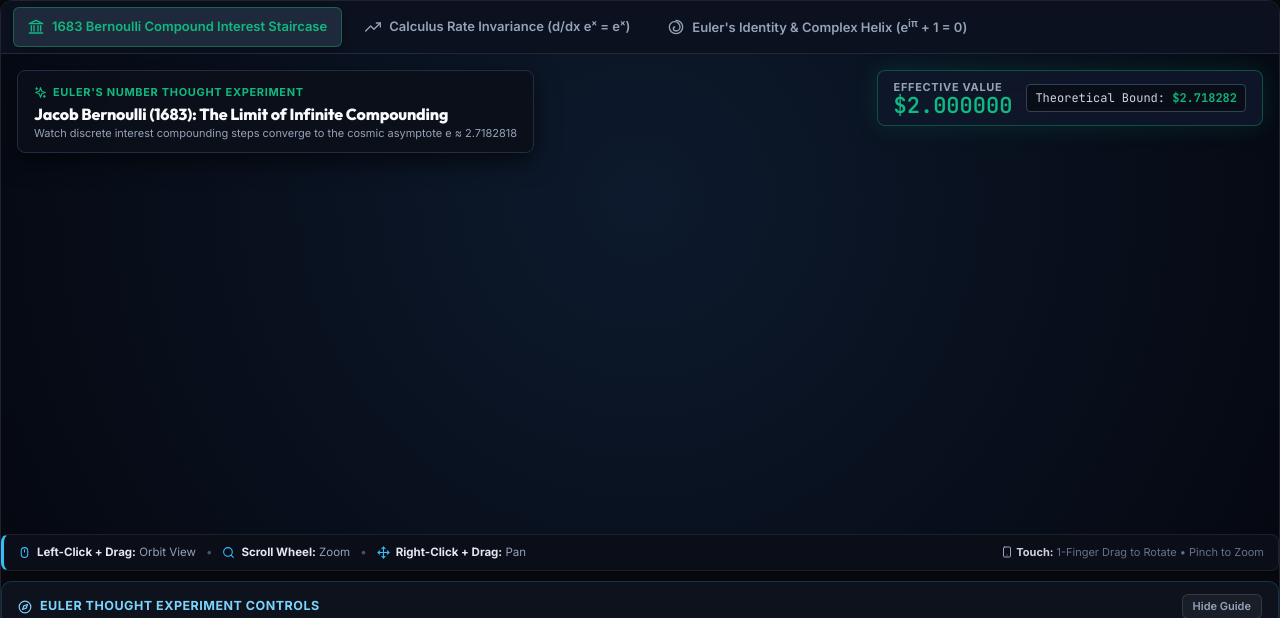
Test: EulersNumber3DLab › switches to Calculus Rate Invariance mode (d/dx e^x = e^x)
Click the tab with test id "tab-calculus" at (498, 27), box [350,7,645,47]
(page scrolled)
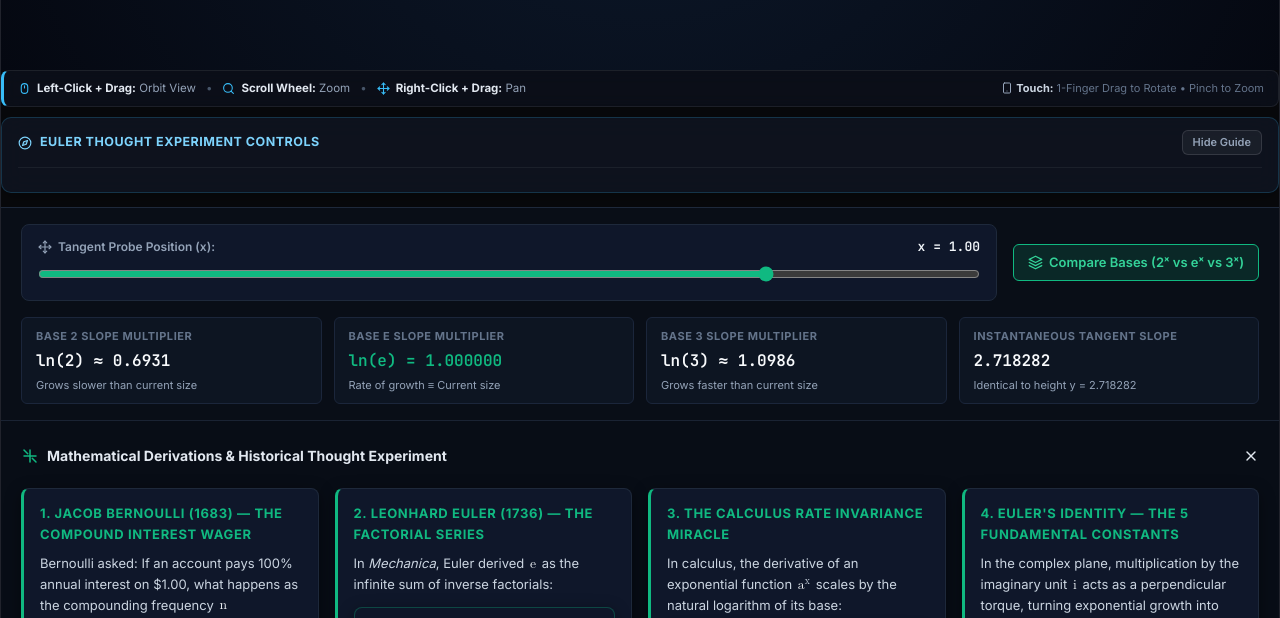
expect the text "Tangent Probe Position (x):" is shown: met, box [58,238,215,256]
expect the text "Base e Slope Multiplier" is shown: met, box [348,329,504,343]
expect the text "ln(e) = 1.000000" is shown: met, box [348,350,502,371]
